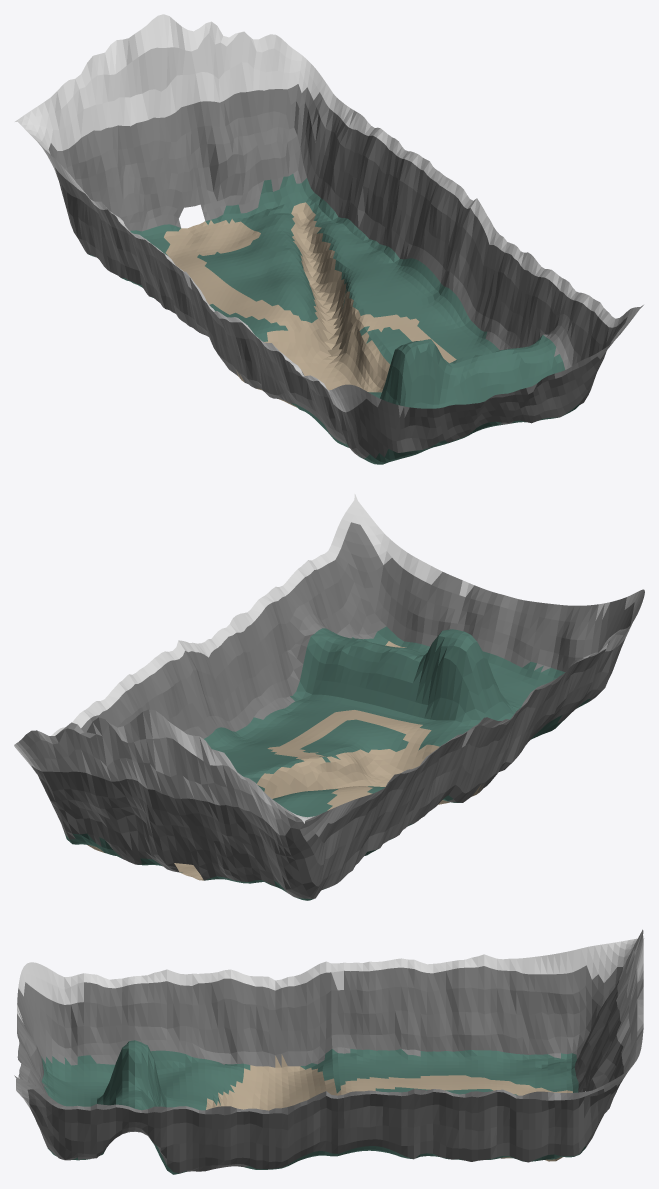
The model's file is MapLevelTerrain2.fbx.
3 renders of one model, top to bottom at view 1: azimuth 30°, elevation 25°; view 2: azimuth 150°, elevation 25°; view 3: azimuth 270°, elevation 25°, orthographic. The views are drawn at different scales.
Visible parts, largest first — view 1: Landscape; view 2: Landscape; view 3: Landscape.
Part boxes in pixels (bbox=[...]): Landscape: bbox=[15, 14, 643, 464]; Landscape: bbox=[14, 494, 644, 900]; Landscape: bbox=[14, 929, 644, 1174].
Size of the model in its own units: 15042 by 11168 by 30299.
